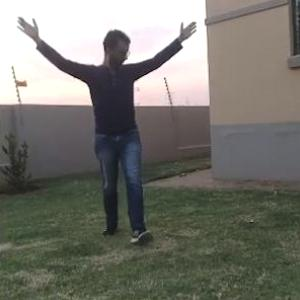takeoff: (0, 0, 218, 251)
